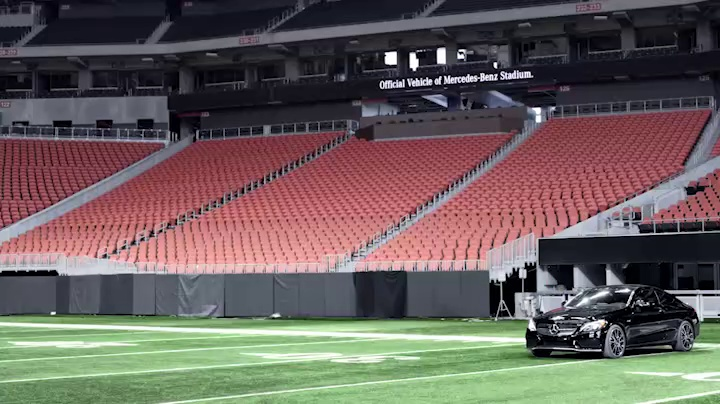amg: (524, 285, 706, 358)
